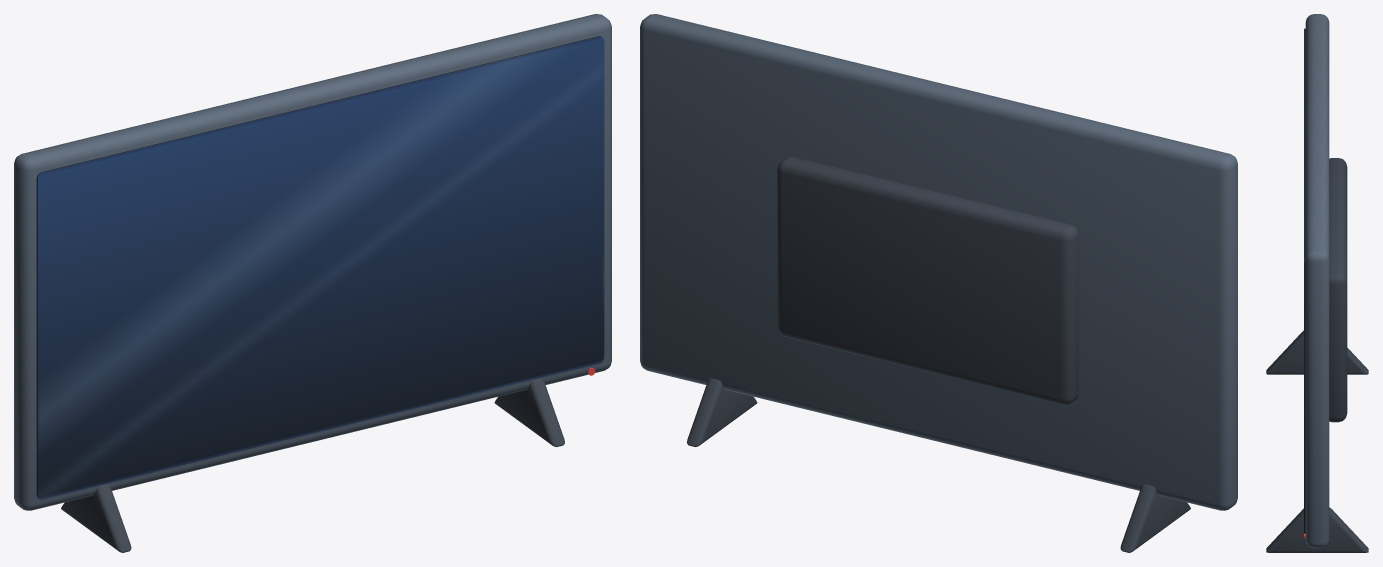
The model's file is tv_tela_plana_120.glb.
The picture shows the model from 3 angles, left to right: view 1: azimuth 30°, elevation 25°; view 2: azimuth 150°, elevation 25°; view 3: azimuth 270°, elevation 25°; orthographic projection. The views are drawn at different scales.
Parts seen in each view (by area): view 1: tv_tela_plana_120; view 2: tv_tela_plana_120; view 3: tv_tela_plana_120.
Boxes of the visible parts, x1,y1,x2,y2 form: tv_tela_plana_120: (14, 14, 611, 552); tv_tela_plana_120: (640, 14, 1237, 552); tv_tela_plana_120: (1266, 14, 1368, 552).
Bounding box in the file's own units: 1.2 × 0.759 × 0.2142.
Materials: 2 (2 with a texture image).
